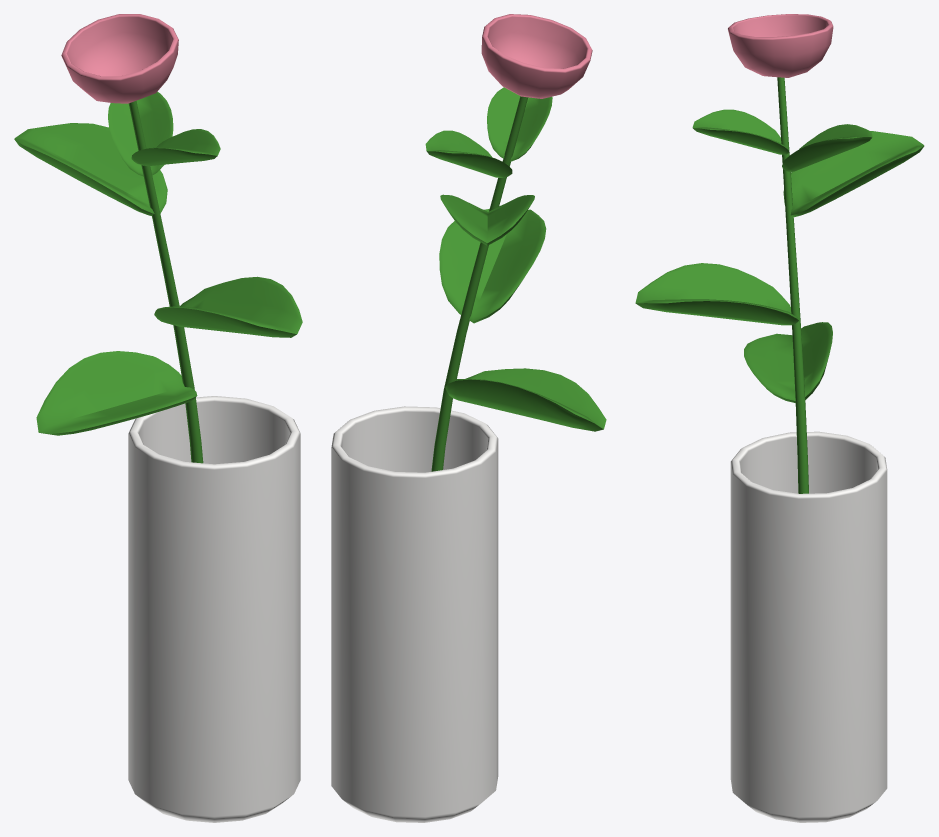
File: Flower_Vase_With_flower_1.glb
3 views of the same model, side by side, from view 1: azimuth 30°, elevation 25°; view 2: azimuth 150°, elevation 25°; view 3: azimuth 270°, elevation 25° (orthographic). The views are drawn at different scales.
Visible parts, largest first — view 1: Vase_With_flower_1; view 2: Vase_With_flower_1; view 3: Vase_With_flower_1.
Part boxes in pixels (<box>): Vase_With_flower_1: <box>14,14,302,822</box>; Vase_With_flower_1: <box>331,14,606,822</box>; Vase_With_flower_1: <box>635,14,924,822</box>.
Size of the model in its own units: 0.261 by 0.7666 by 0.2753.
Materials: 1 (1 with a texture image).
